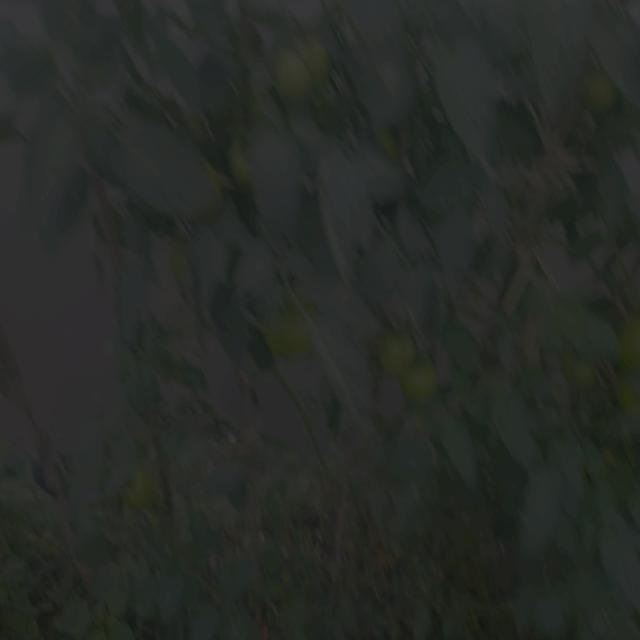tomato: (267, 29, 337, 106), (263, 299, 325, 368), (121, 451, 169, 516), (224, 139, 267, 196), (582, 67, 621, 124), (402, 357, 442, 412), (373, 325, 416, 370), (608, 309, 639, 363)
